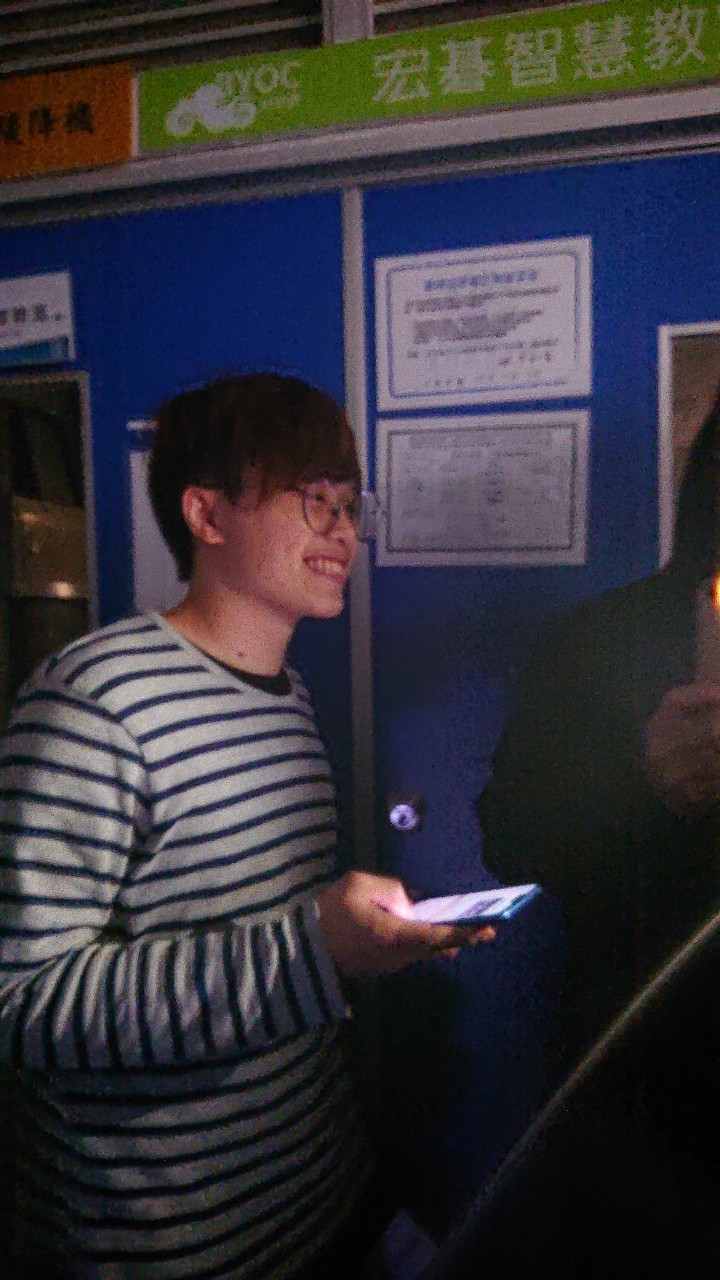people: (73, 372, 403, 1155)
